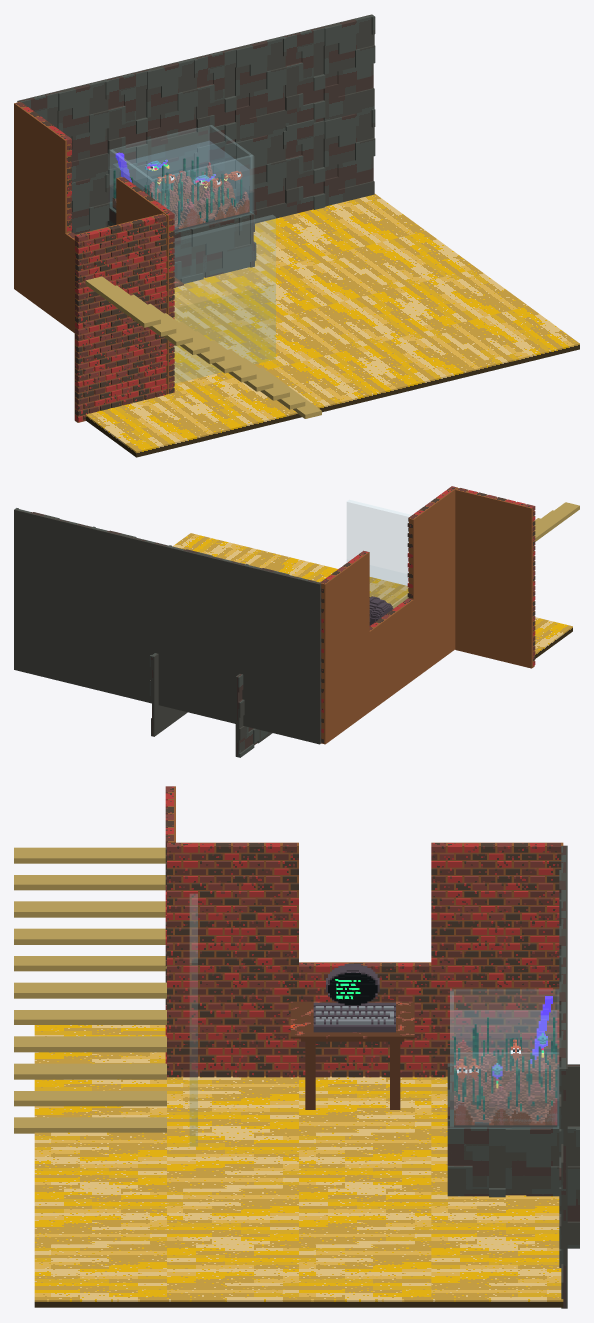
Rendered from study.glb.
The picture shows the model from 3 angles, top to bottom: view 1: azimuth 30°, elevation 25°; view 2: azimuth 150°, elevation 25°; view 3: azimuth 270°, elevation 25°; orthographic projection. The views are drawn at different scales.
Parts seen in each view (by area): view 1: floor (×14), wall-tile (×10), brick-tile (×6), glass, tank/wall (×2), tank/water, stairs, tank/scenery, model-11 (×2); view 2: wall-tile (×10), brick-tile (×7), glass, floor (×4), stairs, workstation/computer; view 3: floor (×17), brick-tile (×6), stairs, model-11 (×2), wall-tile (×4), tank/water, tank/scenery, workstation/desk, workstation/keyboard, glass, workstation/computer.
Part boxes in pixels (left/top/right/bottom): floor (×14): left=85, top=194, right=579, bottom=457; wall-tile (×10): left=17, top=14, right=375, bottom=283; brick-tile (×6): left=14, top=102, right=174, bottom=422; glass: left=174, top=215, right=275, bottom=383; tank/wall (×2): left=108, top=126, right=253, bottom=232; tank/water: left=113, top=141, right=248, bottom=227; stairs: left=85, top=276, right=321, bottom=418; tank/scenery: left=112, top=156, right=249, bottom=231; model-11 (×2): left=110, top=125, right=251, bottom=212; wall-tile (×10): left=14, top=508, right=321, bottom=757; brick-tile (×7): left=320, top=486, right=535, bottom=744; glass: left=347, top=500, right=411, bottom=607; floor (×4): left=173, top=533, right=572, bottom=658; stairs: left=392, top=502, right=579, bottom=608; workstation/computer: left=369, top=596, right=393, bottom=625; floor (×17): left=34, top=1025, right=563, bottom=1307; brick-tile (×6): left=165, top=786, right=563, bottom=1077; stairs: left=14, top=847, right=166, bottom=1133; model-11 (×2): left=450, top=989, right=558, bottom=1128; wall-tile (×4): left=447, top=1013, right=579, bottom=1308; tank/water: left=454, top=1010, right=556, bottom=1122; tank/scenery: left=454, top=1017, right=557, bottom=1127; workstation/desk: left=290, top=1001, right=414, bottom=1109; workstation/keyboard: left=313, top=1002, right=395, bottom=1032; glass: left=190, top=894, right=197, bottom=1146; workstation/computer: left=326, top=964, right=379, bottom=1006.
Size of the model in its own units: 325 by 151 by 274.
15 materials, 15 textured.
